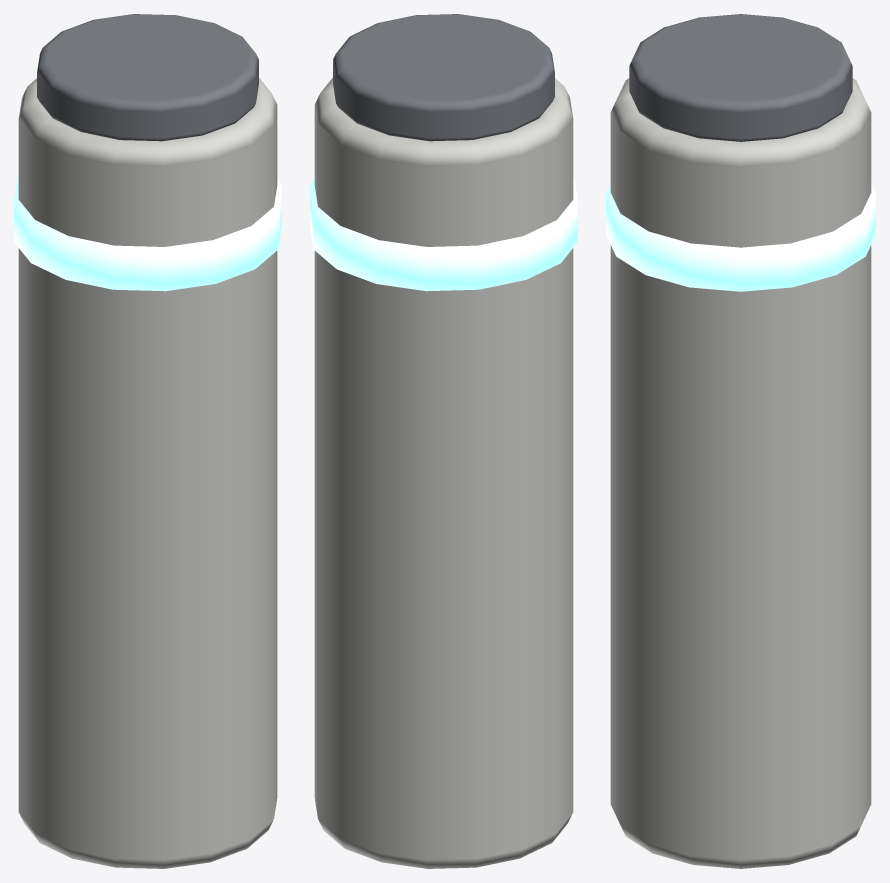
Rendered from kit_bollard.glb.
3 renders of one model, left to right at view 1: azimuth 30°, elevation 25°; view 2: azimuth 150°, elevation 25°; view 3: azimuth 270°, elevation 25°, orthographic.
Parts seen in each view (by area): view 1: bollard; view 2: bollard; view 3: bollard.
Part boxes in pixels (box(x1,y1,x2,y2)): bollard: box(14, 14, 281, 868); bollard: box(310, 14, 577, 868); bollard: box(606, 14, 875, 868).
Bounding box in the file's own units: 0.29 × 0.905 × 0.29.
